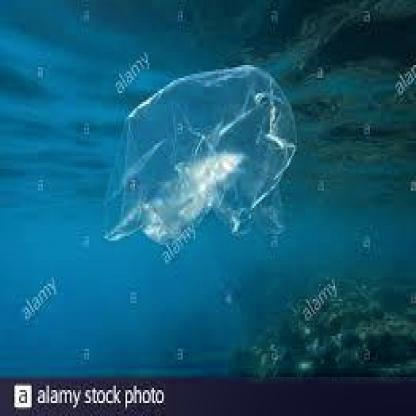pbag: (102, 63, 298, 245)
